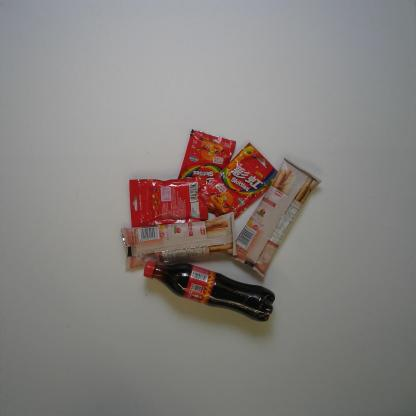Candy: (195, 141, 279, 221), (176, 127, 237, 215), (128, 175, 209, 229)
Dessert: (231, 156, 324, 279), (121, 210, 238, 270)
Drink: (142, 260, 276, 322)
